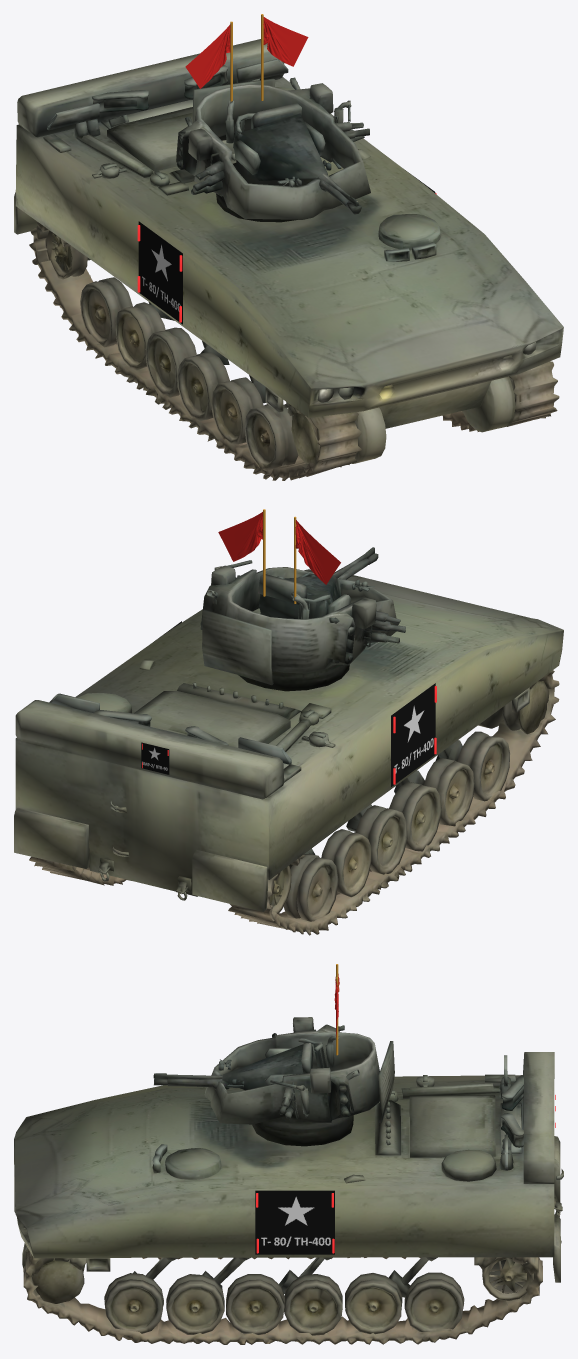
Rendered from OP4_veh_with_3_x_Lives.glb.
3 views of the same model, one above another, from view 1: azimuth 30°, elevation 25°; view 2: azimuth 150°, elevation 25°; view 3: azimuth 270°, elevation 25° (orthographic). The views are drawn at different scales.
Parts seen in each view (by area): view 1: tripo_node_b858fb1a.002, tripo_node_b858fb1a.004, Plane.005, Cylinder.001, Cylinder.002; view 2: tripo_node_b858fb1a.002, tripo_node_b858fb1a.004, Plane.005, Cylinder.001, Cylinder.002, Plane.007; view 3: tripo_node_b858fb1a.002, tripo_node_b858fb1a.004, Plane.006.
Part boxes in pixels (x1=…): tripo_node_b858fb1a.002: x1=14, y1=39, x2=563, y2=480; tripo_node_b858fb1a.004: x1=176, y1=77, x2=370, y2=222; Plane.005: x1=137, y1=221, x2=182, y2=324; Cylinder.001: x1=261, y1=14, x2=308, y2=100; Cylinder.002: x1=185, y1=21, x2=232, y2=101; tripo_node_b858fb1a.002: x1=14, y1=569, x2=563, y2=935; tripo_node_b858fb1a.004: x1=200, y1=547, x2=405, y2=691; Plane.005: x1=391, y1=683, x2=435, y2=786; Cylinder.001: x1=218, y1=509, x2=265, y2=596; Cylinder.002: x1=294, y1=516, x2=340, y2=603; Plane.007: x1=141, y1=742, x2=169, y2=774; tripo_node_b858fb1a.002: x1=14, y1=1052, x2=563, y2=1344; tripo_node_b858fb1a.004: x1=153, y1=1017, x2=394, y2=1146; Plane.006: x1=255, y1=1190, x2=334, y2=1254.
Size of the model in its own units: 1.36 by 1.76 by 2.8.
7 materials, 4 textured.
